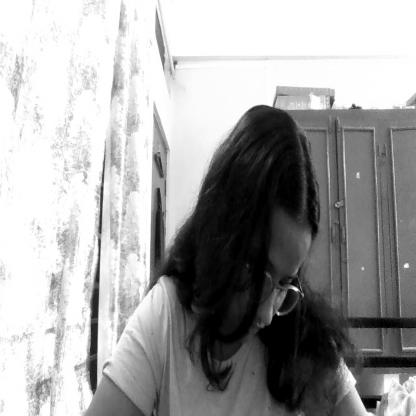Distracted: (229, 199, 316, 341)
